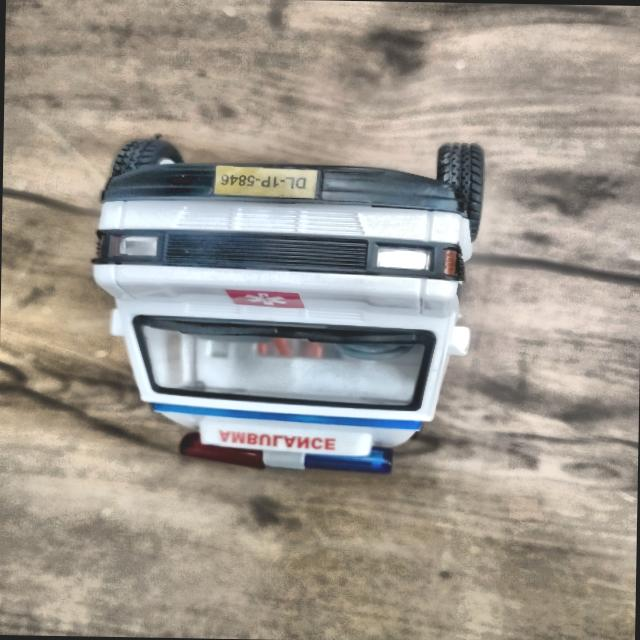Ambulance: (70, 124, 499, 514)
